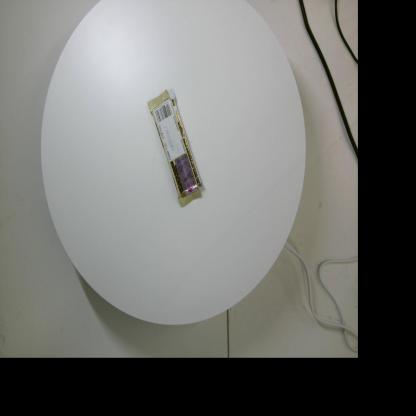Chocolate: (147, 89, 204, 208)
